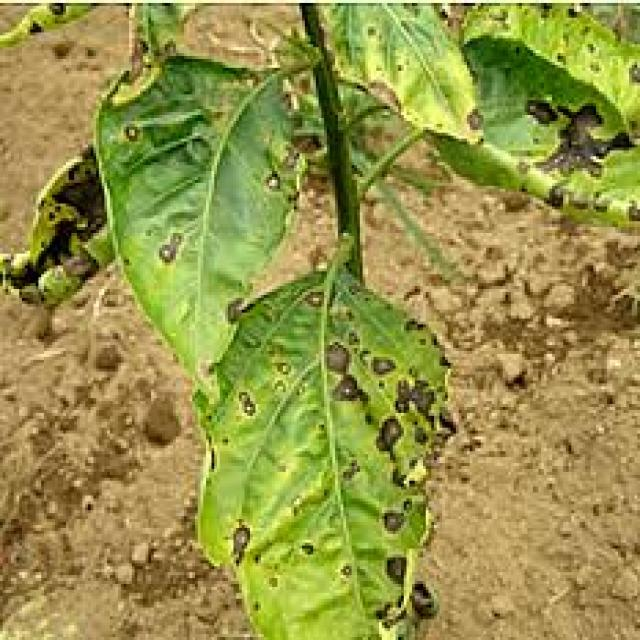bercak_daun: (192, 265, 467, 640), (98, 42, 302, 376)
